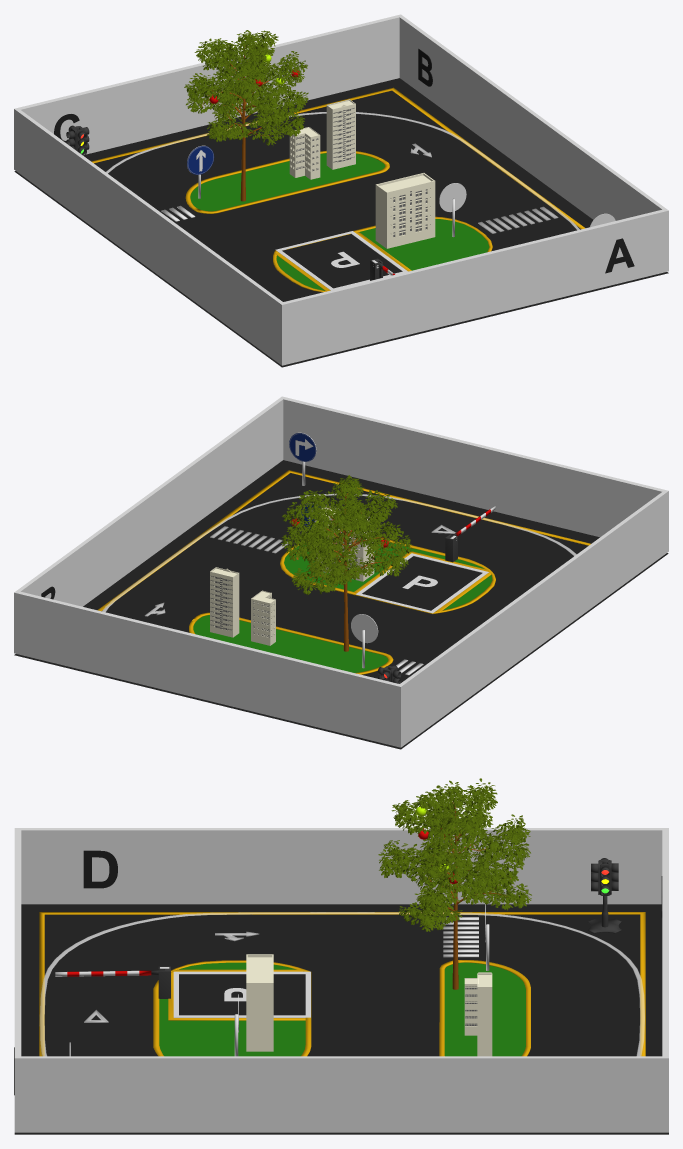
File: ros-map.glb
3 renders of one model, top to bottom at view 1: azimuth 30°, elevation 25°; view 2: azimuth 150°, elevation 25°; view 3: azimuth 270°, elevation 25°, orthographic. The views are drawn at different scales.
Visible parts, largest first — view 1: 外墙30, 大地面, 树苗, 02, 建筑.001, 01, p地面, 建筑.002, 大圈黄线, 建筑.003, 03, 大圈 (+7 smaller); view 2: 外墙30, 大地面, 树苗, 02, p地面, 建筑.002, 大圈黄线, 01, 大圈, 建筑.003, 04, 白线 (+7 smaller); view 3: 外墙30, 大地面, 树苗, 02, 01, p地面, 大圈黄线, 大圈, 建筑.001, 信号灯, 建筑.002, 03 (+7 smaller).
Part boxes in pixels (x1=…): 外墙30: x1=14, y1=14, x2=668, y2=365; 大地面: x1=14, y1=78, x2=668, y2=367; 树苗: x1=184, y1=30, x2=308, y2=201; 02: x1=190, y1=153, x2=385, y2=211; 建筑.001: x1=375, y1=173, x2=435, y2=248; 01: x1=276, y1=219, x2=489, y2=290; p地面: x1=282, y1=234, x2=402, y2=288; 建筑.002: x1=326, y1=99, x2=355, y2=169; 大圈黄线: x1=91, y1=87, x2=585, y2=229; 建筑.003: x1=289, y1=127, x2=320, y2=179; 03: x1=185, y1=150, x2=389, y2=213; 大圈: x1=106, y1=112, x2=579, y2=230; 外墙30: x1=14, y1=396, x2=668, y2=747; 大地面: x1=14, y1=460, x2=668, y2=749; 树苗: x1=281, y1=475, x2=412, y2=651; 02: x1=193, y1=615, x2=388, y2=672; p地面: x1=362, y1=556, x2=482, y2=610; 建筑.002: x1=210, y1=567, x2=239, y2=637; 大圈黄线: x1=97, y1=470, x2=590, y2=611; 01: x1=284, y1=542, x2=492, y2=610; 大圈: x1=102, y1=493, x2=576, y2=612; 建筑.003: x1=251, y1=590, x2=275, y2=645; 04: x1=280, y1=538, x2=495, y2=614; 白线: x1=355, y1=553, x2=488, y2=613; 外墙30: x1=14, y1=828, x2=668, y2=1132; 大地面: x1=14, y1=904, x2=668, y2=1134; 树苗: x1=378, y1=778, x2=531, y2=989; 02: x1=444, y1=962, x2=525, y2=1056; 01: x1=159, y1=962, x2=305, y2=1056; p地面: x1=179, y1=974, x2=305, y2=1015; 大圈黄线: x1=39, y1=912, x2=645, y2=1056; 大圈: x1=39, y1=912, x2=644, y2=1056; 建筑.001: x1=246, y1=954, x2=273, y2=1051; 信号灯: x1=587, y1=858, x2=621, y2=933; 建筑.002: x1=477, y1=973, x2=492, y2=1056; 03: x1=439, y1=960, x2=530, y2=1056.
Bounding box in the file's own units: 20 × 8.5 × 24.03.
Materials: 22 (3 with a texture image).
